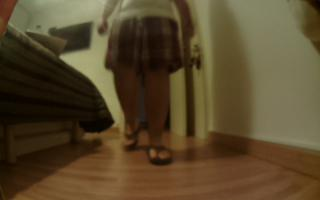person: (97, 1, 197, 167)
